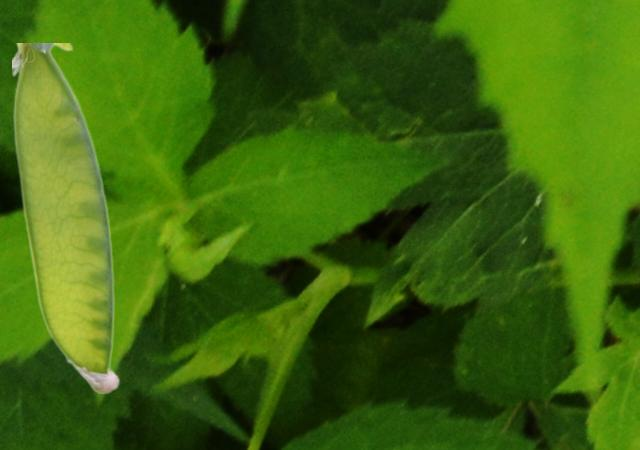pea: (12, 43, 119, 392)
